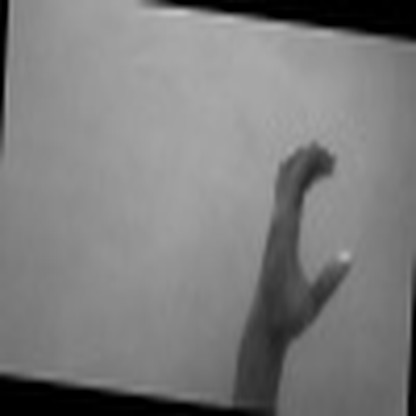c: (258, 135, 358, 338)
